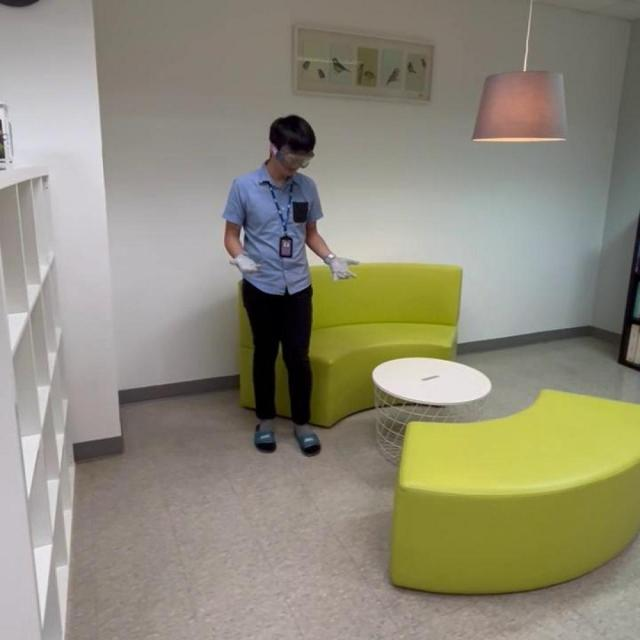gloved_hand: (327, 253, 360, 282), (228, 254, 263, 276)
